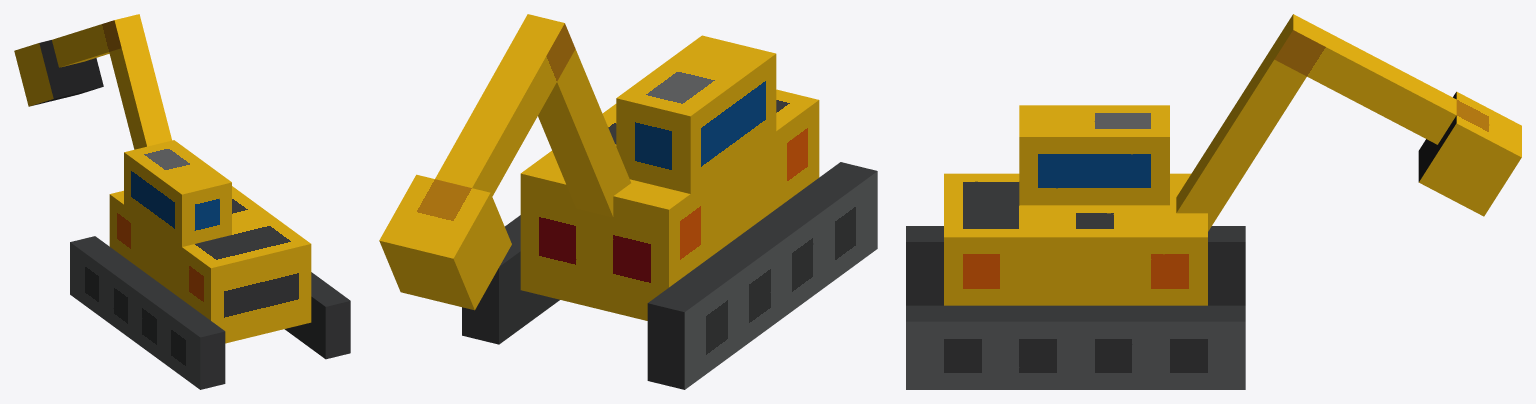
File: shobel.gltf
3 renders of one model, left to right at view 1: azimuth 30°, elevation 25°; view 2: azimuth 150°, elevation 25°; view 3: azimuth 270°, elevation 25°, orthographic. The views are drawn at different scales.
Parts seen in each view (by area): view 1: cube (×7); view 2: cube (×7); view 3: cube (×7).
Part boxes in pixels (x1,y1,x2,y2): cube (×7): [14, 14, 350, 389]; cube (×7): [379, 14, 877, 389]; cube (×7): [906, 14, 1521, 389].
Bounding box in the file's own units: 0.75 × 1.17 × 2.04.
Materials: 1 (1 with a texture image).
